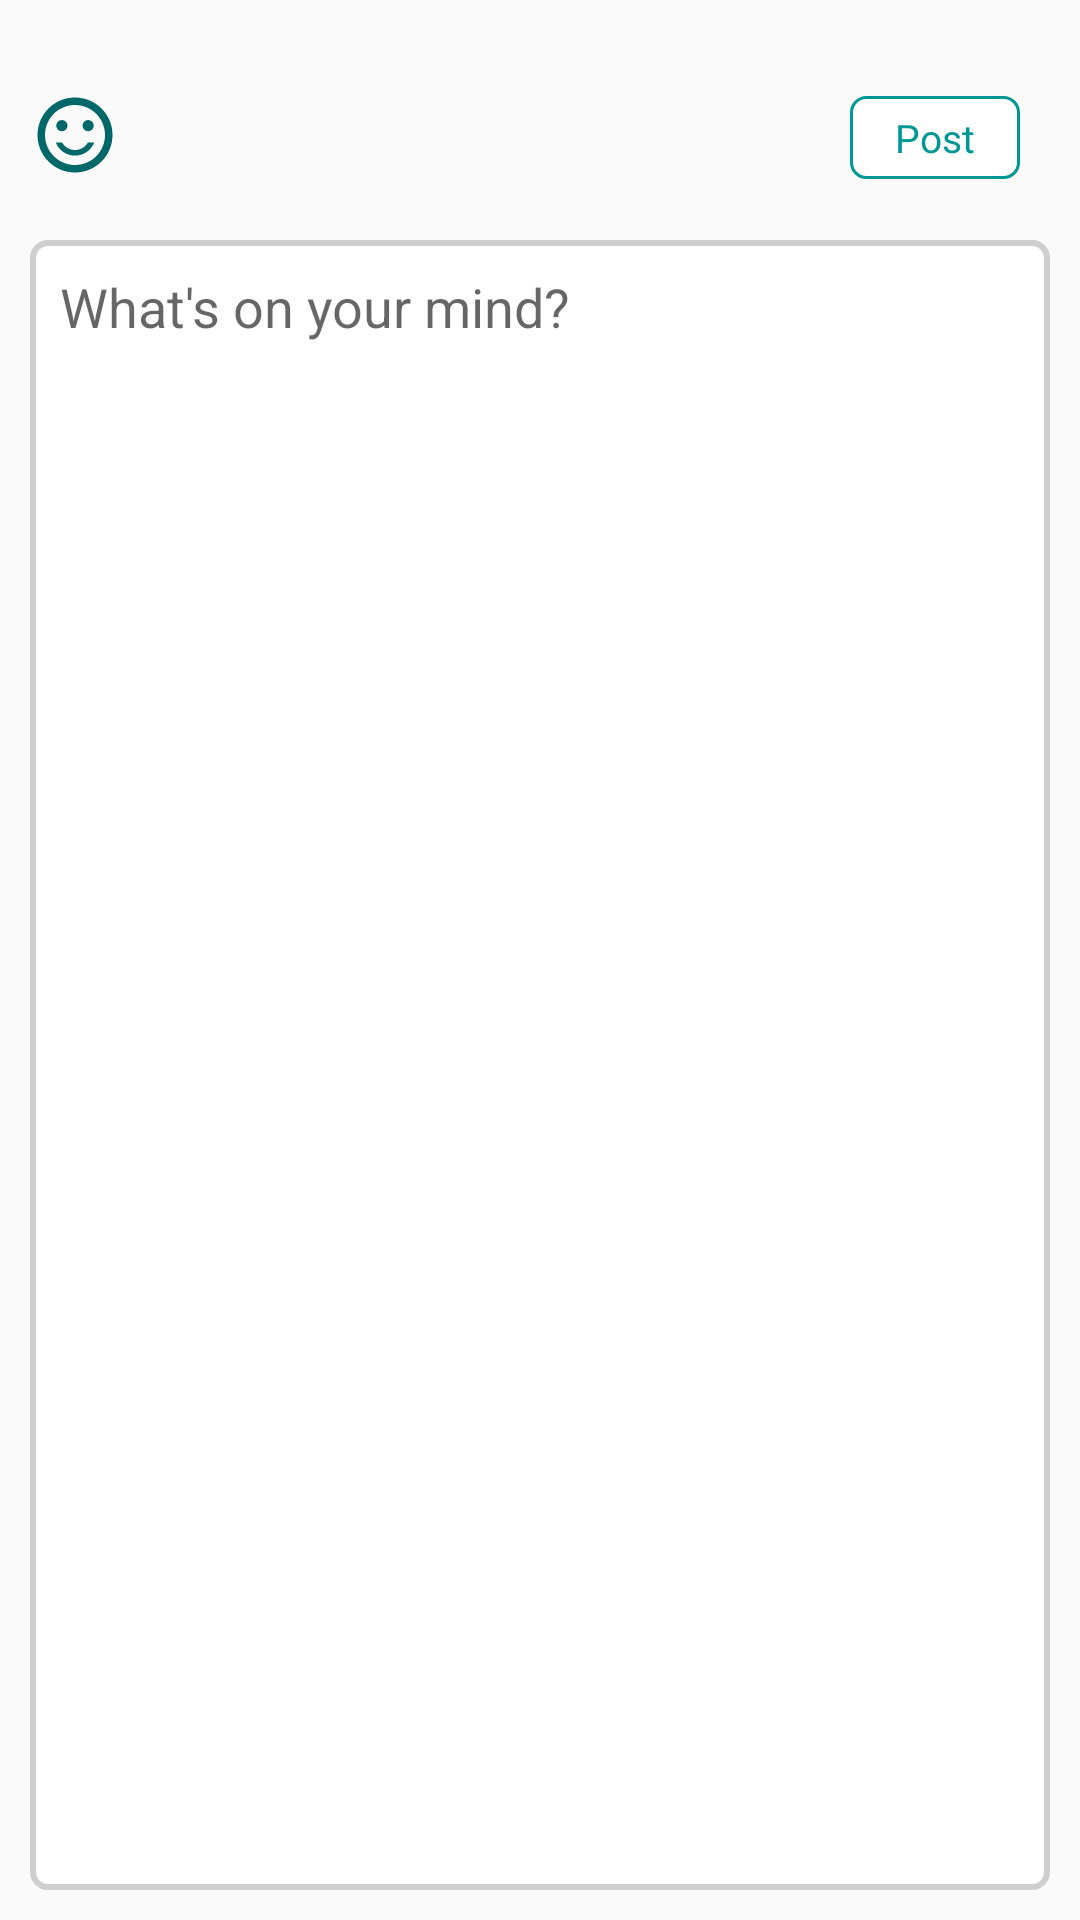

Icons on this 1080px×1920px Android screen, each with the point to tap as (x,y):
sentiment: (75,135)
